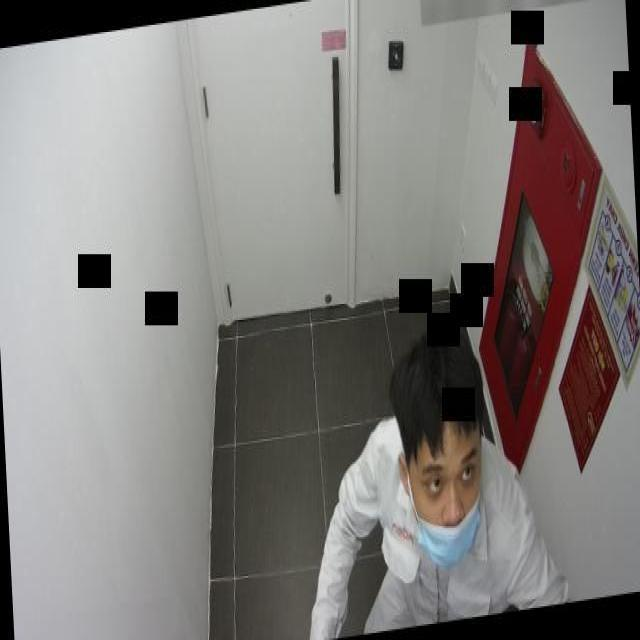hairnet: (418, 439, 481, 567)
